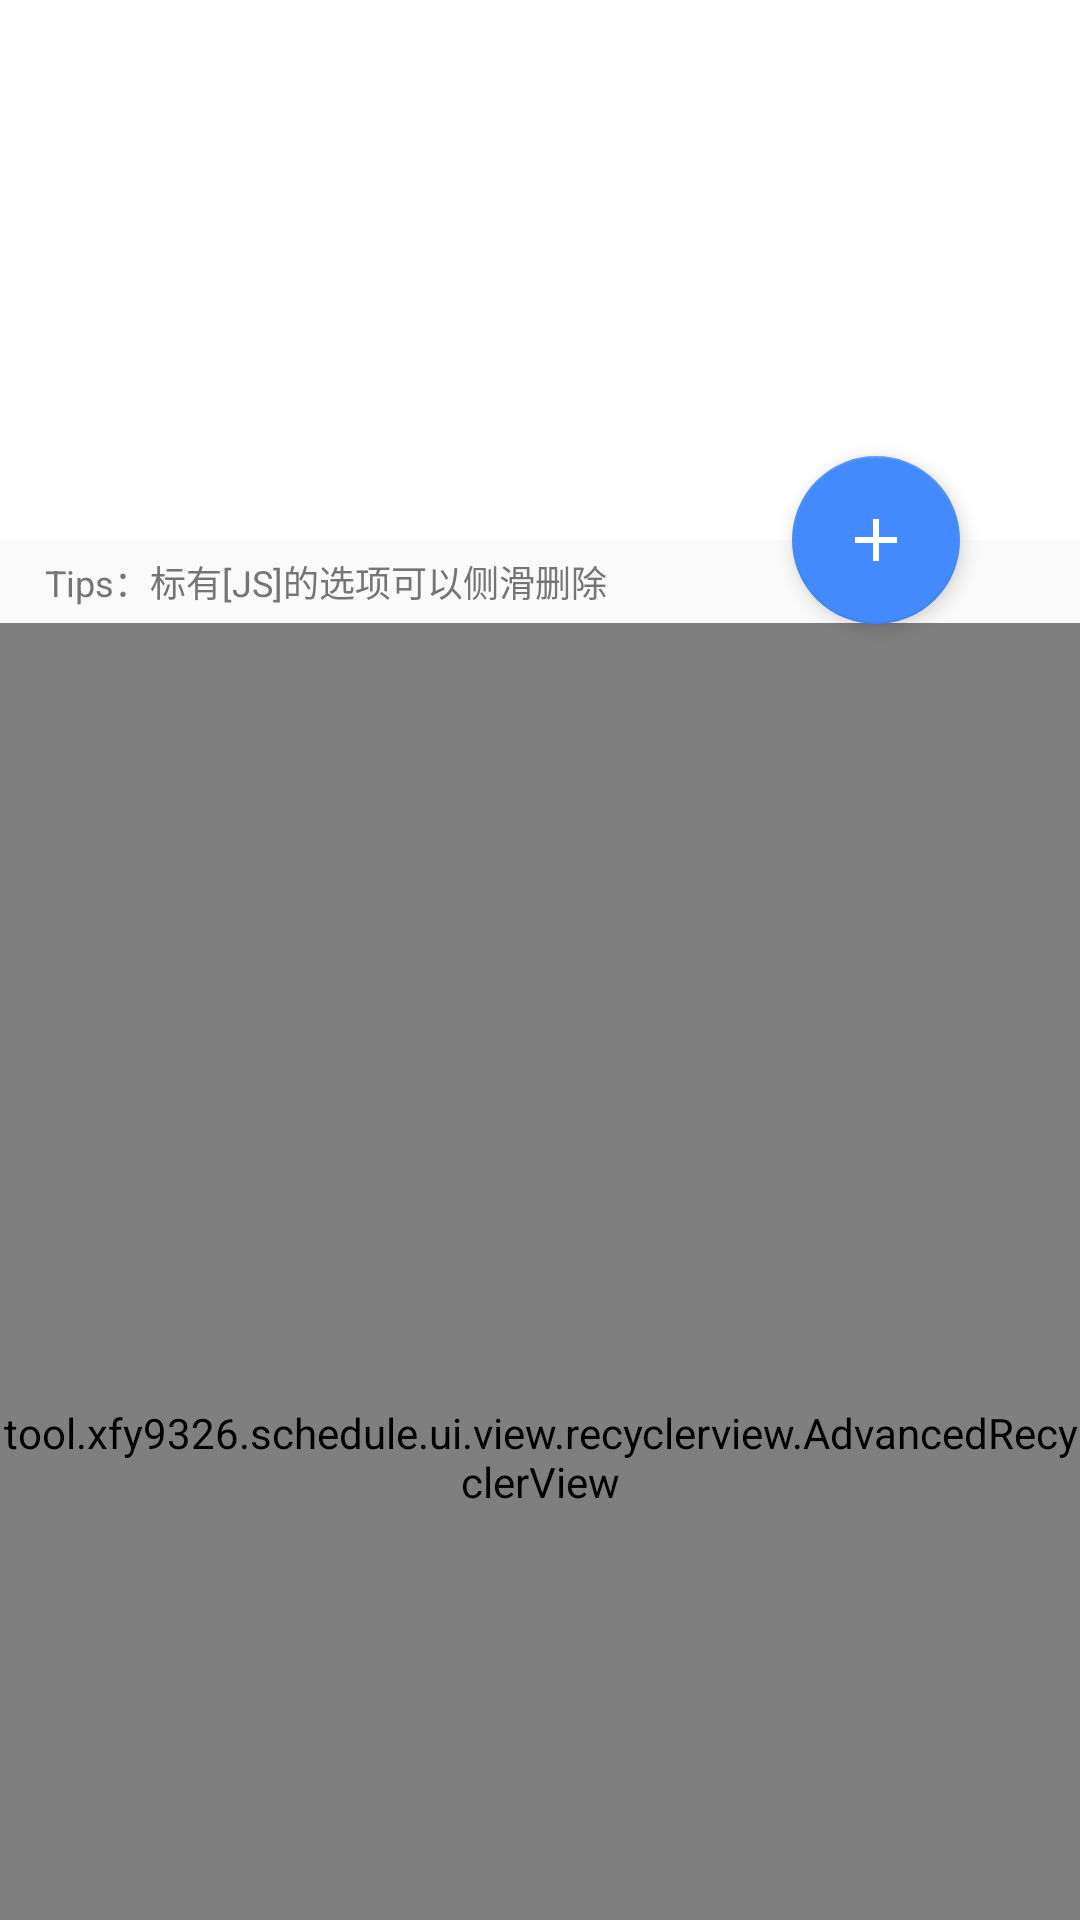

Locate icon controls on the screen. Image size 1080*1920, boxes as (x1, y1, x2, y2).
添加课程导入选项: (792, 456, 960, 624)
